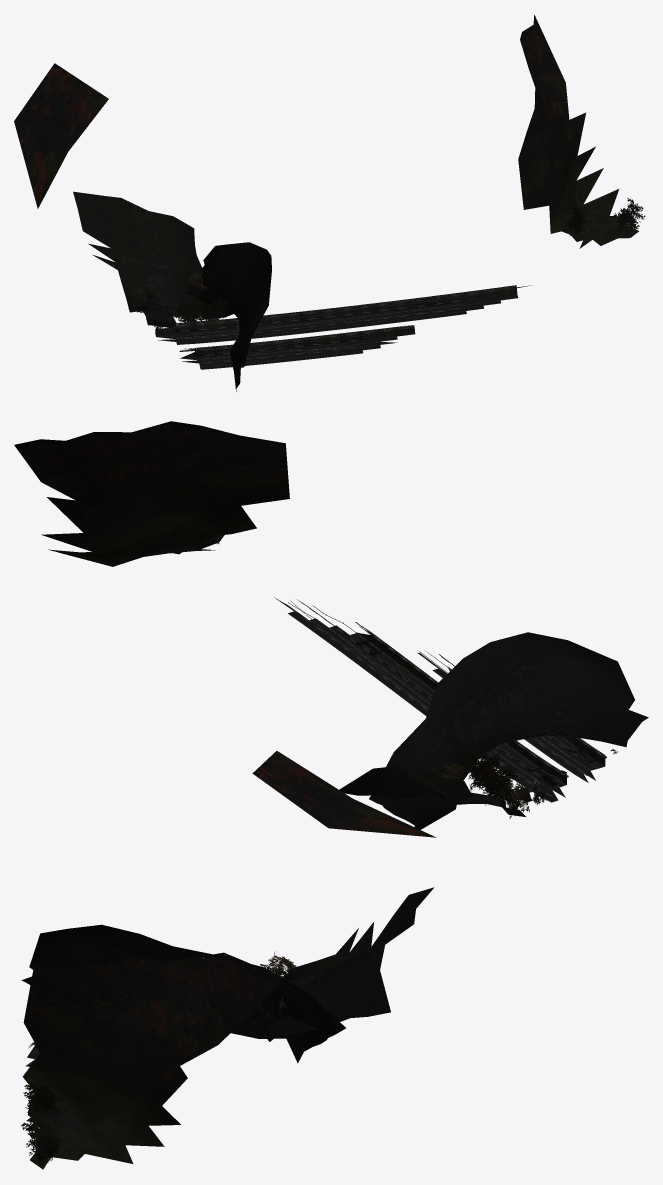
File: cell_6_-18.gltf
3 views of the same model, one above another, from view 1: azimuth 30°, elevation 25°; view 2: azimuth 150°, elevation 25°; view 3: azimuth 270°, elevation 25° (orthographic). The views are drawn at different scales.
Parts seen in each view (by area): view 1: cell_6_-18; view 2: cell_6_-18; view 3: cell_6_-18.
Part boxes in pixels (<box>): cell_6_-18: <box>14,15,645,391</box>; cell_6_-18: <box>14,421,648,837</box>; cell_6_-18: <box>21,887,434,1169</box>.
Size of the model in its own units: 279 by 138 by 278.
Materials: 24 (24 with a texture image).
